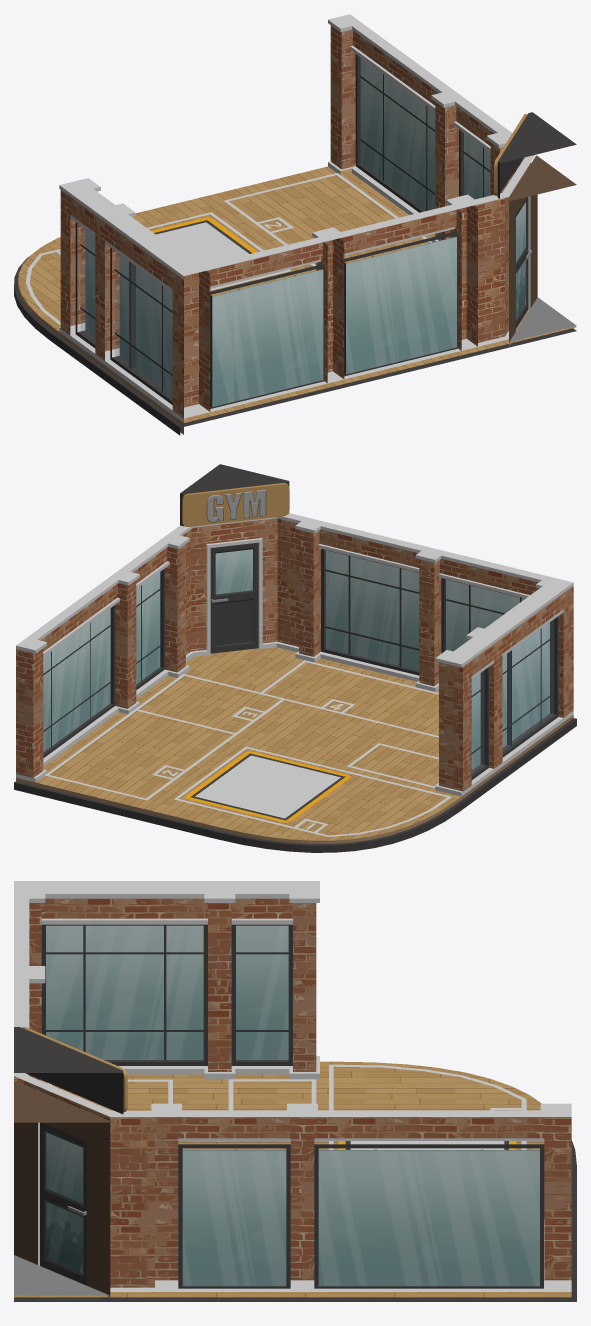
Rendered from interior_k_001.fbx.
3 views of the same model, one above another, from view 1: azimuth 30°, elevation 25°; view 2: azimuth 150°, elevation 25°; view 3: azimuth 270°, elevation 25° (orthographic). The views are drawn at different scales.
Visible parts, largest first — view 1: interior_k_001; view 2: interior_k_001; view 3: interior_k_001.
Part boxes in pixels (left/top/right/bottom): interior_k_001: left=14, top=14, right=576, bottom=435; interior_k_001: left=14, top=464, right=576, bottom=852; interior_k_001: left=14, top=881, right=576, bottom=1301.
Size of the model in its own units: 707 by 331 by 707.
